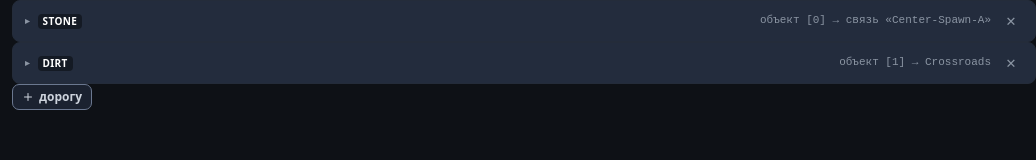
Test case: RoadsEditor › удаление одной дороги из нескольких оставляет остальные
Expected: the number of elements with class "road-item" is 2, [12,0,1035,42]; [12,42,1035,84]
Click the button named "Удалить дорогу" at (1011, 21), box [999,9,1023,33]
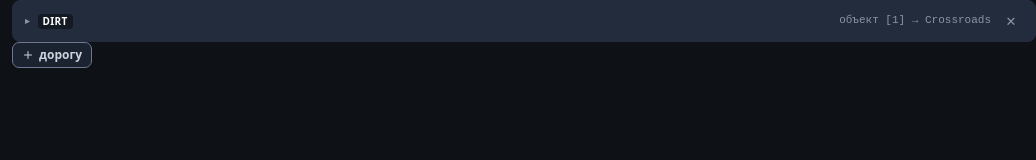
Now the number of elements with class "road-item" is 1, box [12,0,1035,42]
Now the heading "объект [0] → связь «Center-Spawn-A»" is gone
Now the text "объект [1] → Crossroads" is shown, box [839,13,991,29]
